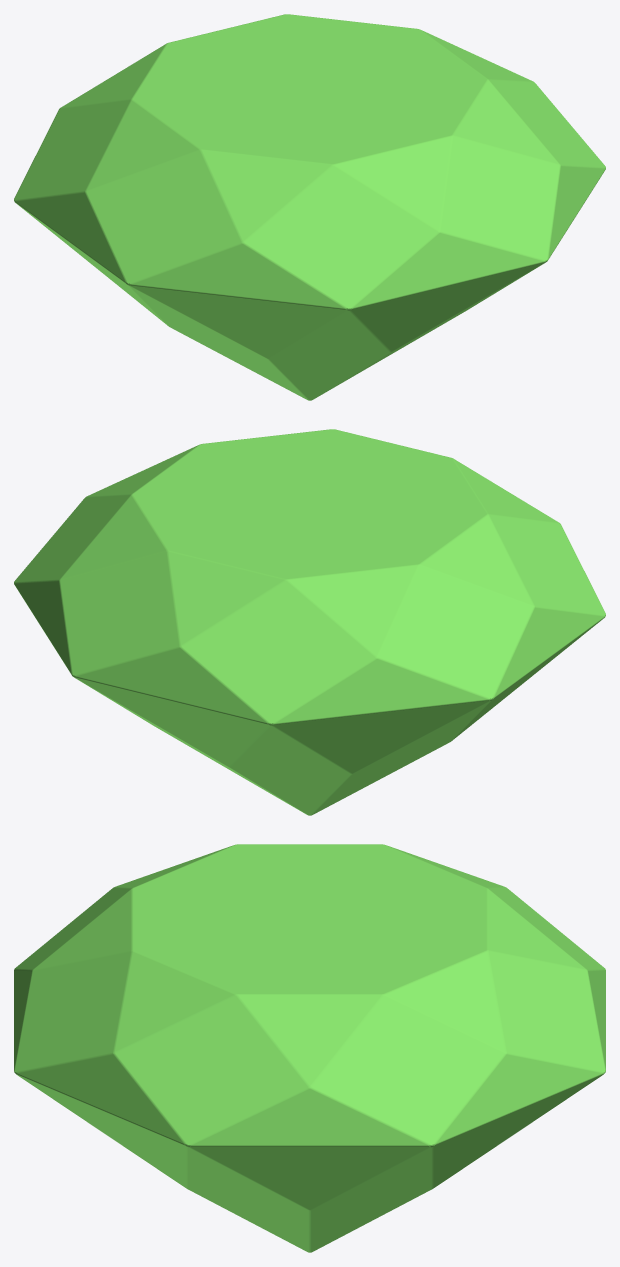
The model's file is gem3.glb.
3 views of the same model, one above another, from view 1: azimuth 30°, elevation 25°; view 2: azimuth 150°, elevation 25°; view 3: azimuth 270°, elevation 25° (orthographic). The views are drawn at different scales.
Visible parts, largest first — view 1: Gem; view 2: Gem; view 3: Gem.
Part boxes in pixels (x1,y1,x2,y2): Gem: (14,14,605,400); Gem: (14,429,605,815); Gem: (14,844,605,1252).
Size of the model in its own units: 1.85 by 1.15 by 1.85.
